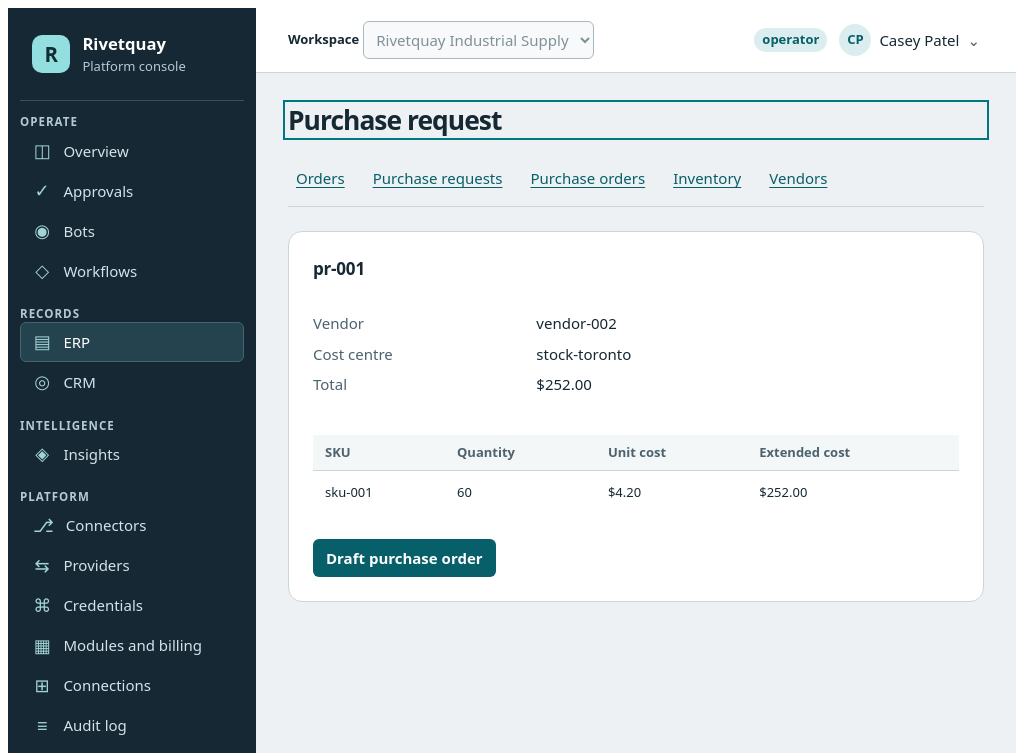
drafts a purchase order as the operator and approves its exact draft as the assigned approver
The image size is (1024, 753).
Later steps or results of the test are not shown.
Click the button "Draft purchase order" at (404, 558), box [313,539,496,577]
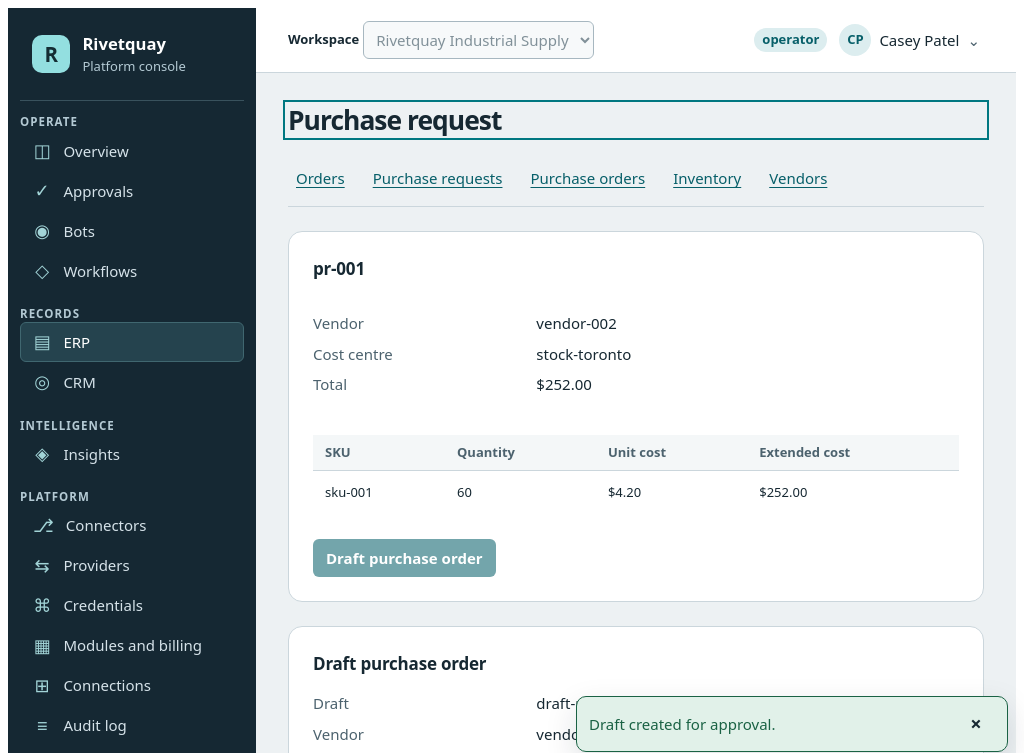
Expected: the text "vendor-002" is shown, [536,313,617,333]
Result: the text "Draft created for approval." is shown at [589,713,776,735]
